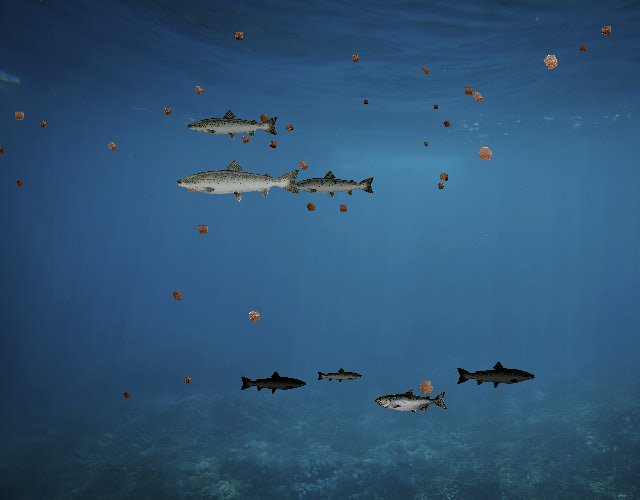Fish: (174, 157, 303, 203), (187, 108, 281, 142), (290, 169, 376, 200), (456, 360, 537, 389), (376, 389, 449, 415), (240, 370, 308, 394), (317, 368, 364, 385)
Pellet: (242, 304, 267, 329), (347, 50, 364, 67), (180, 373, 195, 388), (433, 179, 448, 193), (120, 388, 134, 402), (36, 117, 50, 131)
